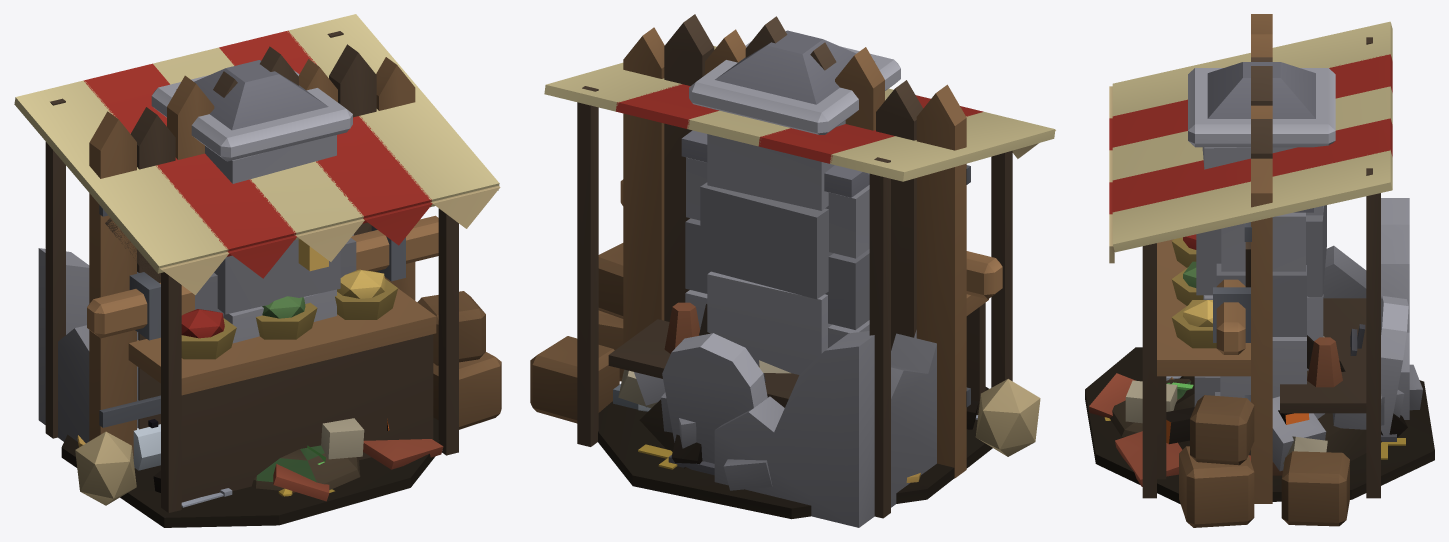
File: village_kit.glb
3 views of the same model, side by side, from view 1: azimuth 30°, elevation 25°; view 2: azimuth 150°, elevation 25°; view 3: azimuth 270°, elevation 25° (orthographic). The views are drawn at different scales.
Parts seen in each view (by area): view 1: market_stall, gate, rubble, wall_post, grave, corpse_knight, wall_rail; view 2: market_stall, gate, rubble, wall_post, wall_rail, grave, corpse_knight; view 3: market_stall, rubble, wall_post, gate, wall_rail, grave.
Boxes of the visible parts, x1,y1,x2,y2 form: market_stall: (14, 14, 501, 512); gate: (87, 44, 438, 458); rubble: (38, 248, 443, 527); wall_post: (151, 60, 352, 343); grave: (251, 445, 360, 490); corpse_knight: (133, 419, 442, 496); wall_rail: (195, 234, 356, 317); market_stall: (530, 46, 1055, 518); gate: (620, 14, 1002, 478); rubble: (598, 304, 992, 527); wall_post: (689, 30, 900, 374); wall_rail: (681, 130, 869, 347); grave: (662, 333, 767, 475); corpse_knight: (613, 384, 677, 469); market_stall: (1109, 21, 1392, 527); rubble: (1085, 198, 1434, 504); wall_post: (1188, 62, 1335, 414); gate: (1213, 14, 1272, 503); wall_rail: (1215, 208, 1313, 398); grave: (1110, 296, 1408, 441).
Bounding box in the file's own units: 2.57 × 2.3 × 1.94.
